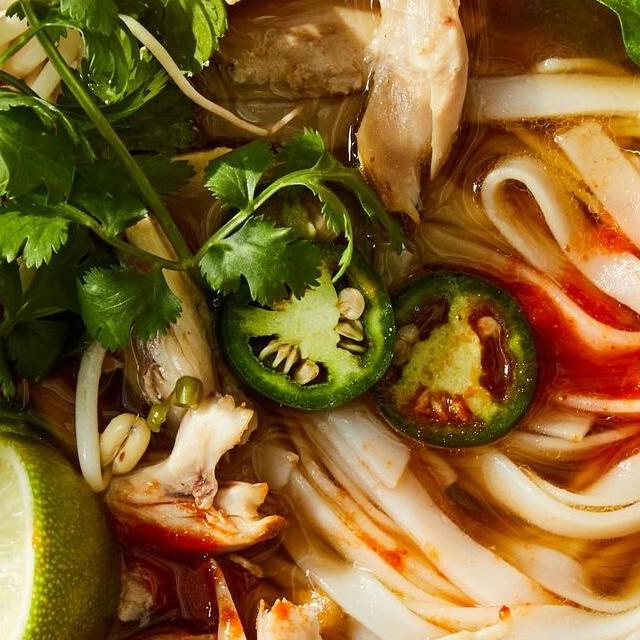banh pho: (226, 37, 640, 640)
pho ga: (0, 0, 640, 640)
thit ga: (92, 384, 294, 576), (341, 0, 478, 229)
